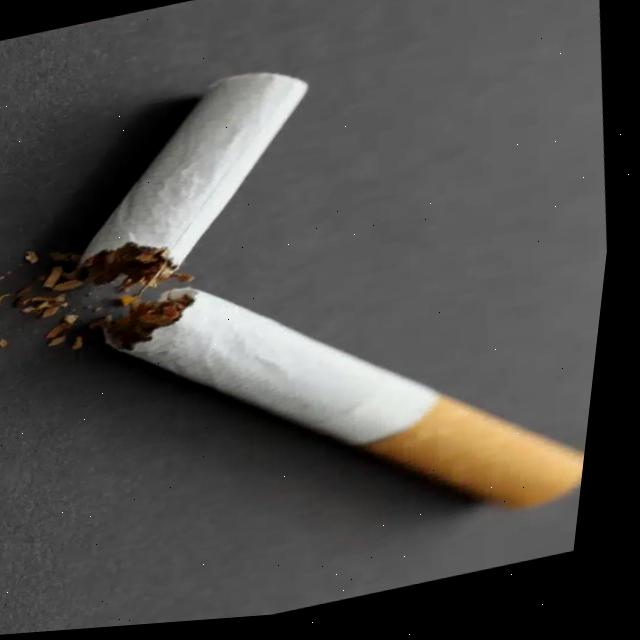cigarette: (88, 287, 585, 508), (78, 72, 308, 290)
